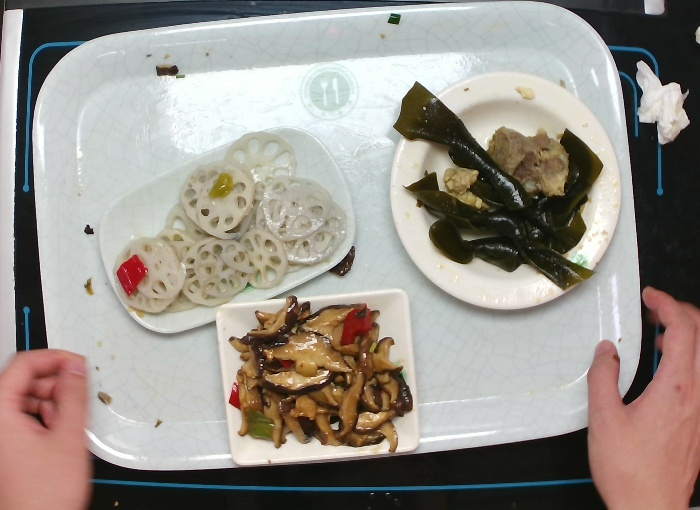WCQzf-Bai_Se_Si_Fang_Die: (213, 288, 422, 468)
WCQzf-Kuan_Bian_Yuan_Die: (387, 68, 623, 311)
WCQzf-Tuo_Yuan_Pan: (96, 124, 357, 337)
